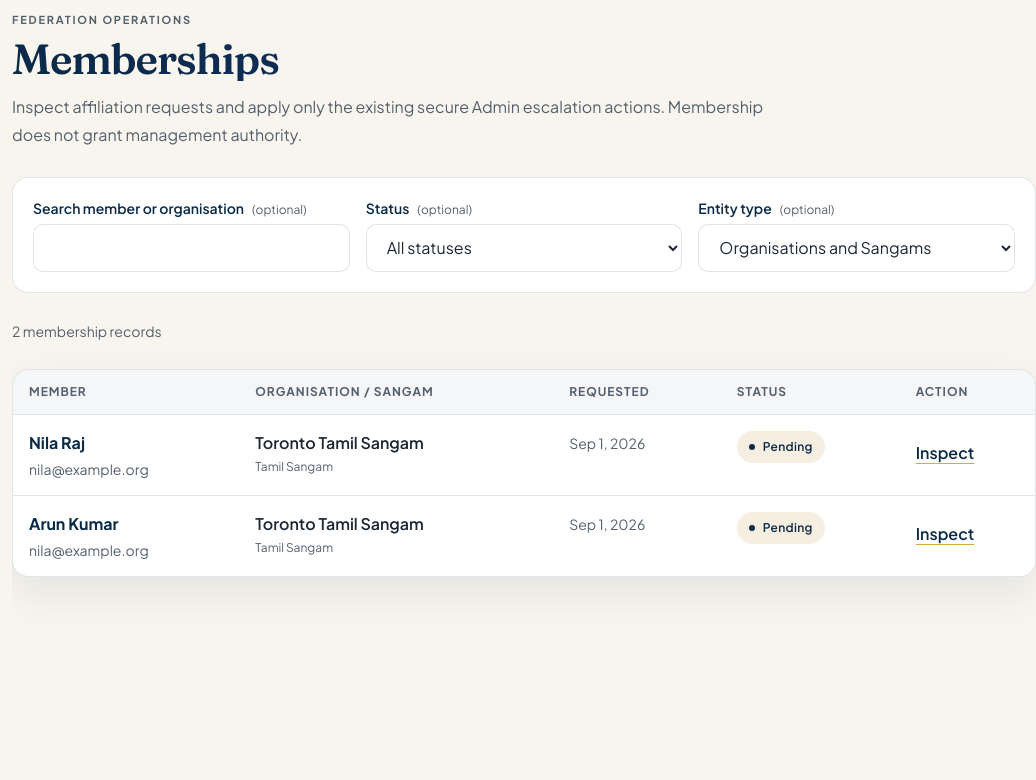
Scenario: AdminMembershipOperations › filters by the search box
In the search field labelled "Search member or organisation (optional)": point(191, 248) [33,224,350,272], type "arun"
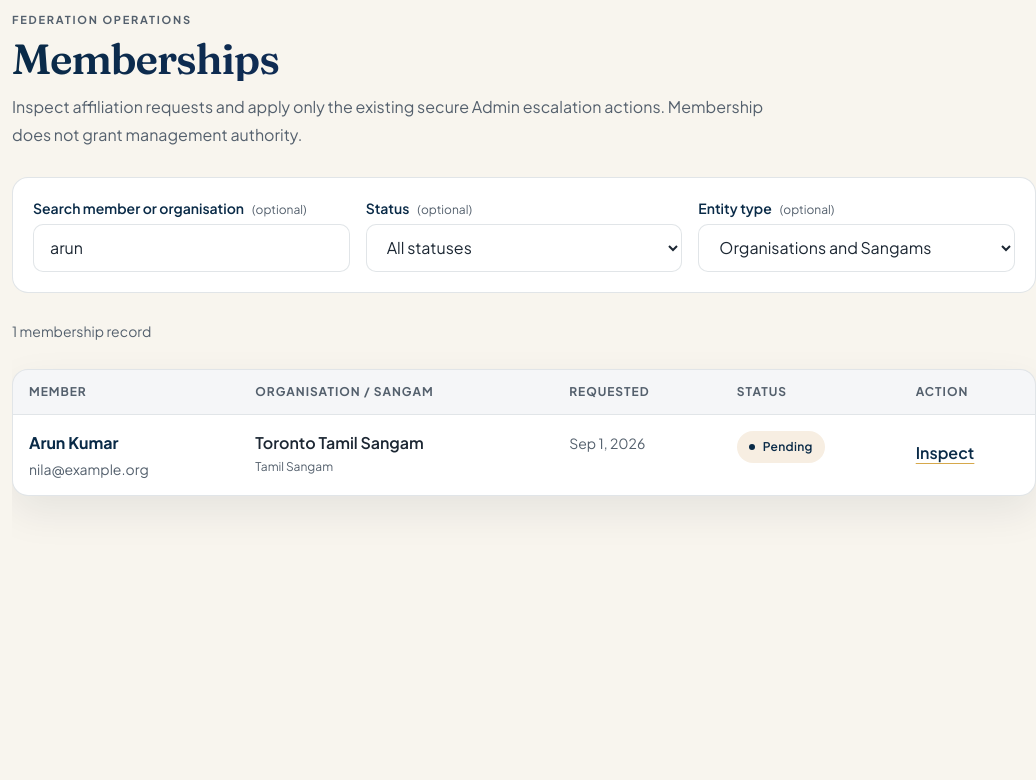
expect the text "Arun Kumar" is shown: met, box [29,432,119,453]
expect the text "Nila Raj" is not shown: met
